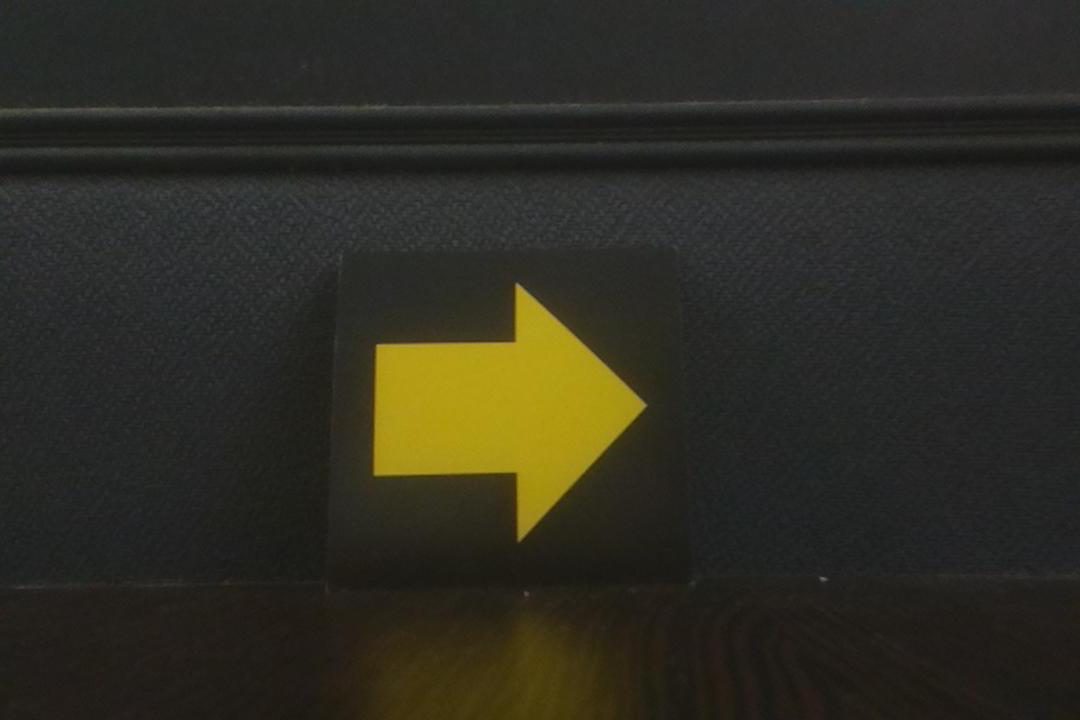right: (335, 247, 688, 584)
